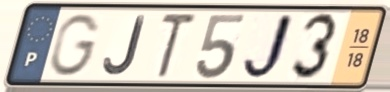3: (287, 11, 343, 83)
5: (193, 12, 249, 81)
G: (47, 12, 104, 79)
J: (239, 11, 298, 83), (102, 14, 148, 77)
T: (152, 11, 200, 81)
